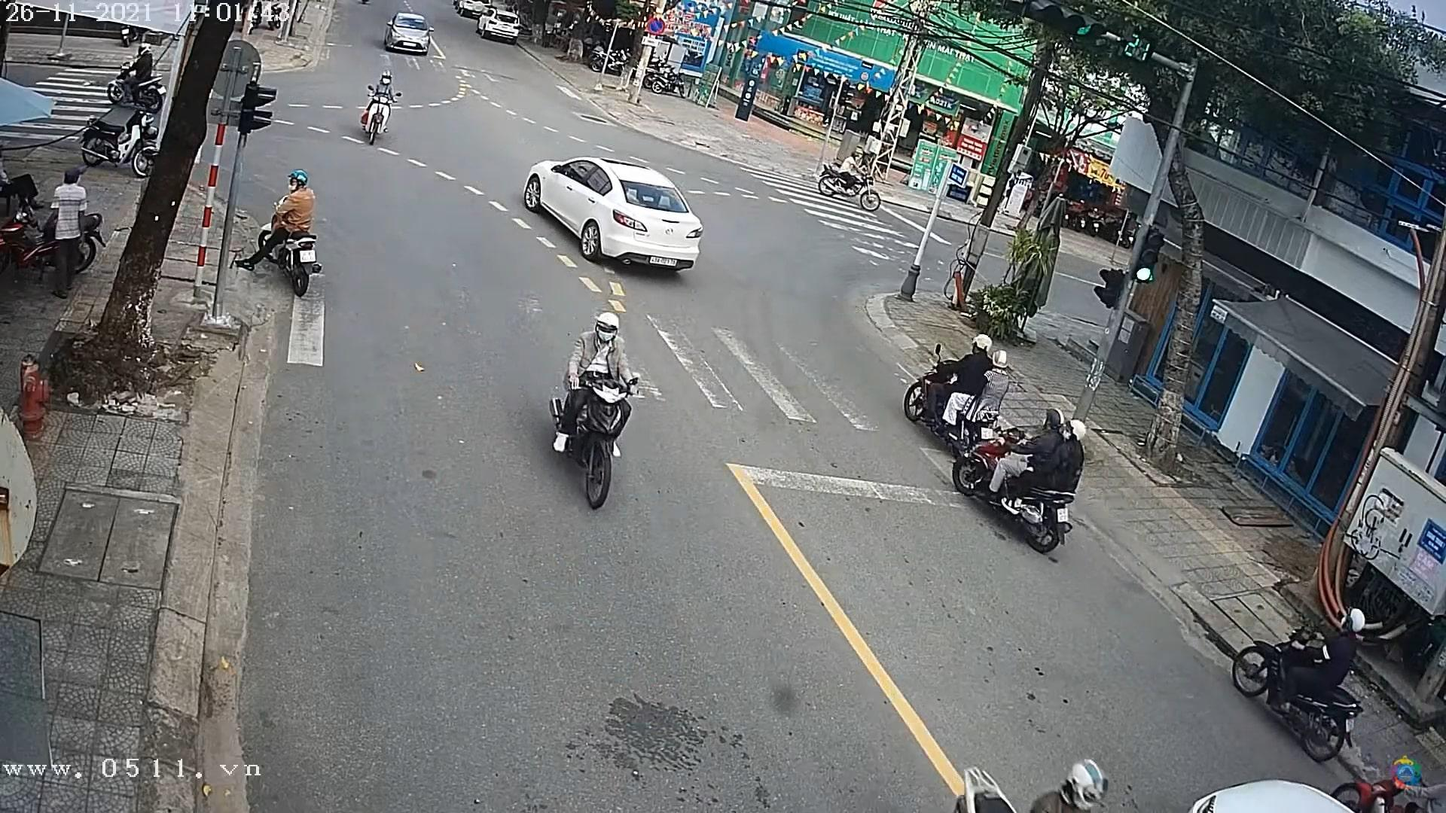car: (522, 154, 712, 274), (383, 11, 433, 54), (453, 2, 497, 21)
motorbike: (1226, 623, 1365, 770), (947, 422, 1078, 558), (569, 371, 641, 514), (257, 202, 325, 303), (810, 157, 882, 211), (358, 87, 399, 153)
